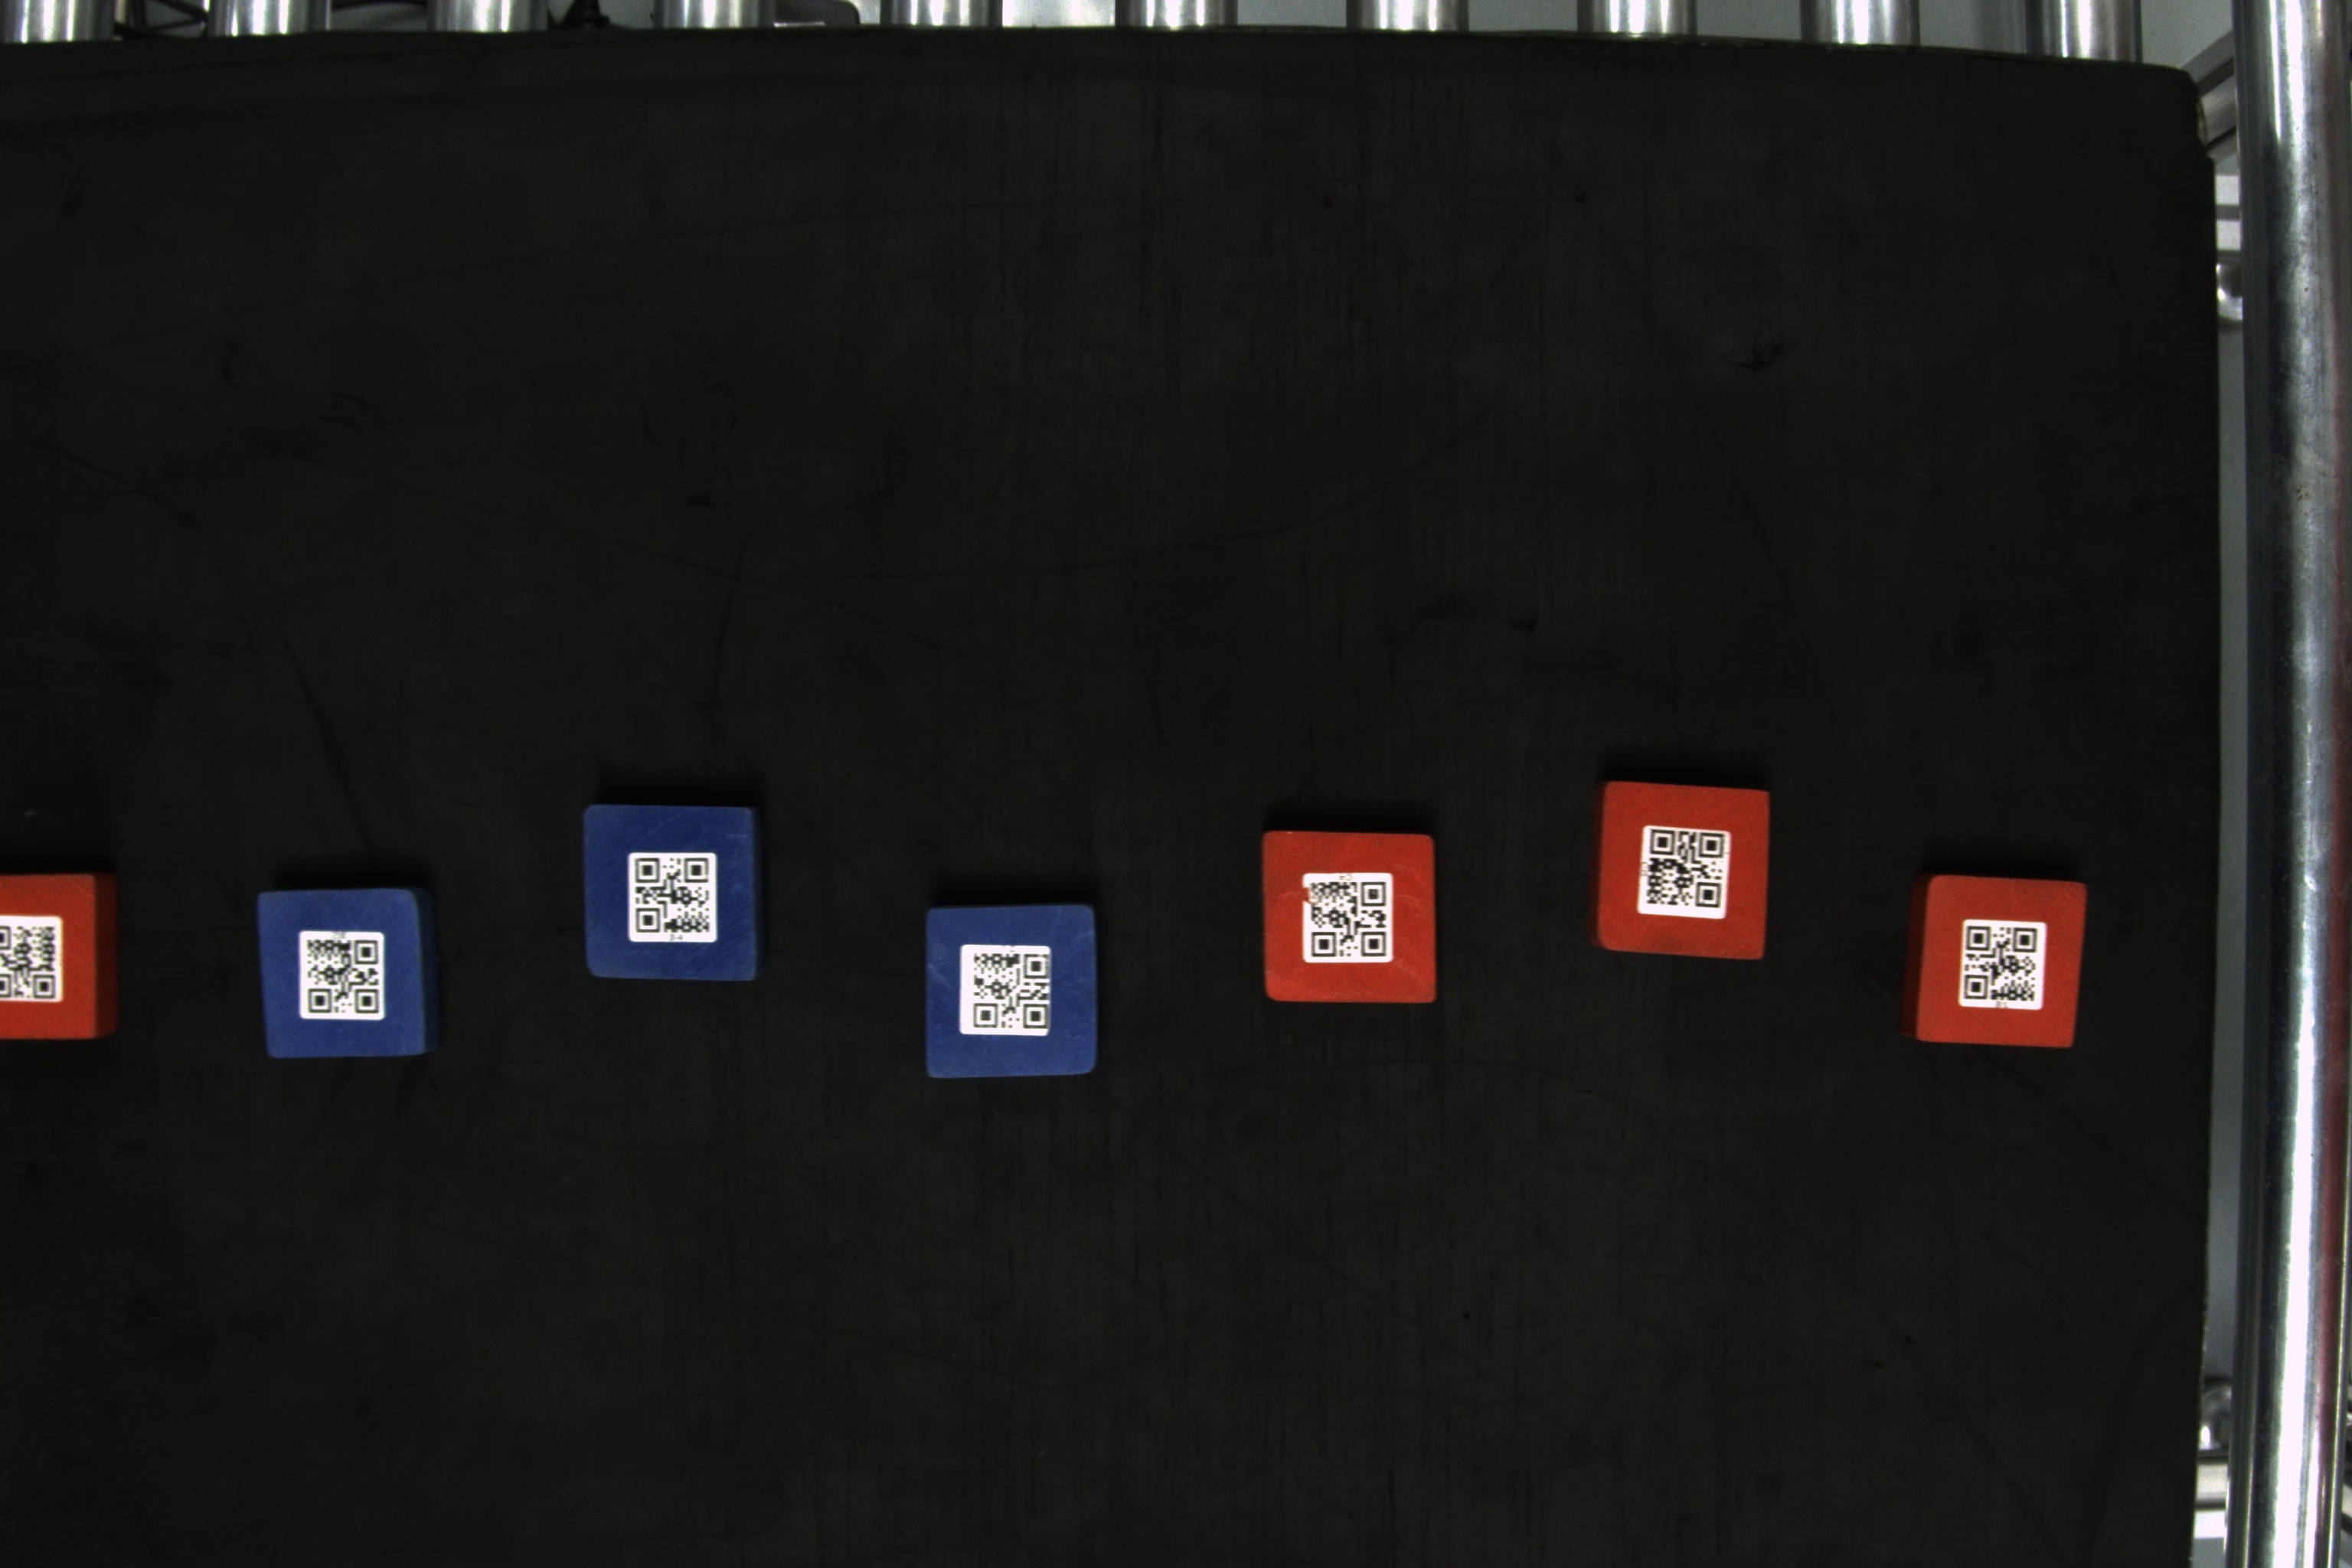wood: (572, 798, 766, 989), (252, 885, 444, 1071), (1906, 864, 2091, 1050), (1589, 777, 1773, 962), (919, 901, 1104, 1081), (1258, 826, 1442, 1006), (3, 871, 124, 1046)
